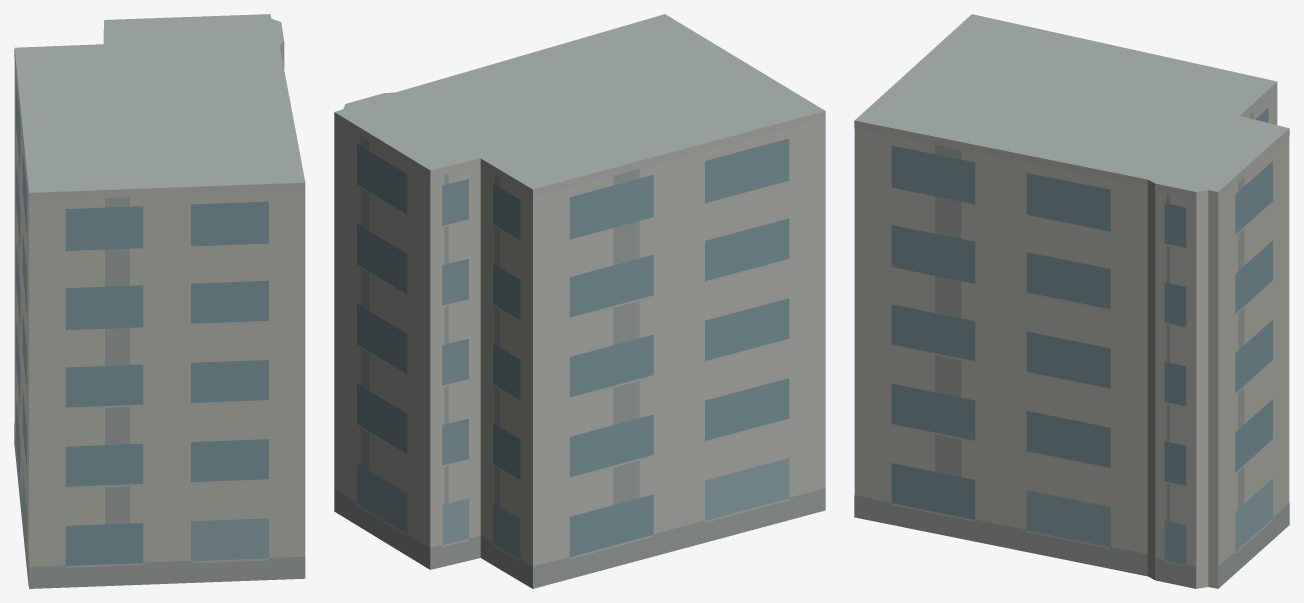
File: survey-upis-32727052.glb
3 views of the same model, side by side, from view 1: azimuth 30°, elevation 25°; view 2: azimuth 150°, elevation 25°; view 3: azimuth 270°, elevation 25° (orthographic).
Visible parts, largest first — view 1: survey-upis-32727052.tmp; view 2: survey-upis-32727052.tmp; view 3: survey-upis-32727052.tmp.
Boxes of the visible parts, left/top/right/bottom form: survey-upis-32727052.tmp: left=14, top=14, right=305, bottom=588; survey-upis-32727052.tmp: left=334, top=14, right=825, bottom=588; survey-upis-32727052.tmp: left=854, top=14, right=1289, bottom=588.
Bounding box in the file's own units: 11.66 × 12.1 × 12.03.
